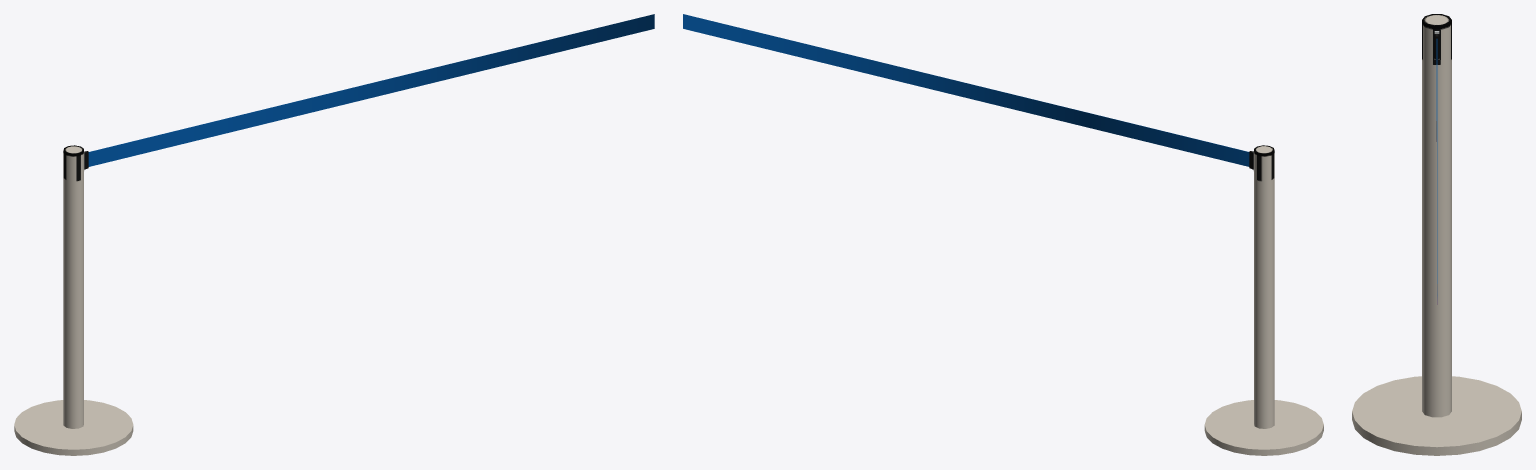
The model's file is Personenleitsystem_Blue.fbx.
3 renders of one model, left to right at view 1: azimuth 30°, elevation 25°; view 2: azimuth 150°, elevation 25°; view 3: azimuth 270°, elevation 25°, orthographic. The views are drawn at different scales.
Visible parts, largest first — view 1: Personenleitsystem_Blue; view 2: Personenleitsystem_Blue; view 3: Personenleitsystem_Blue.
Part boxes in pixels (x1,y1,x2,y2): Personenleitsystem_Blue: (14,14,654,455); Personenleitsystem_Blue: (683,14,1323,455); Personenleitsystem_Blue: (1352,14,1521,455).
Bounding box in the file's own units: 214 × 91 × 35.
